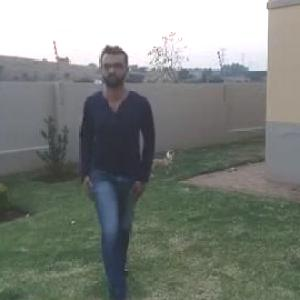follow: (82, 42, 161, 299)
